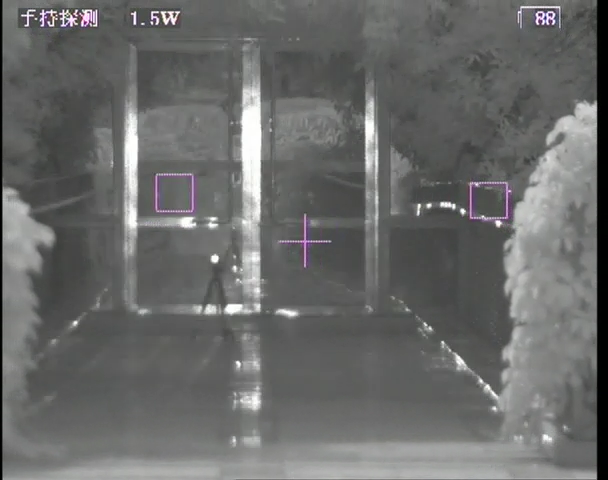my: (209, 254, 219, 264)
